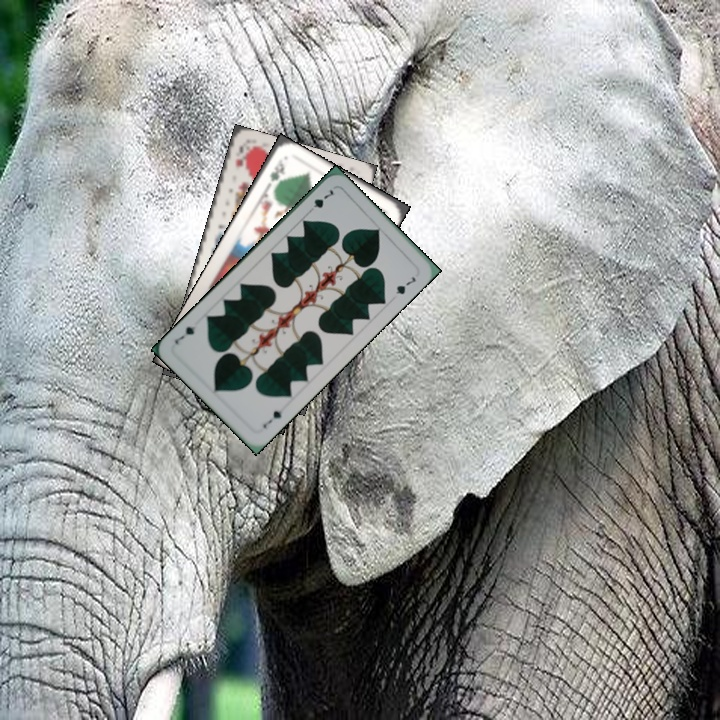G7: (303, 185, 336, 216), (259, 406, 284, 431)
GK: (264, 154, 287, 191)
HK: (231, 141, 251, 170)
